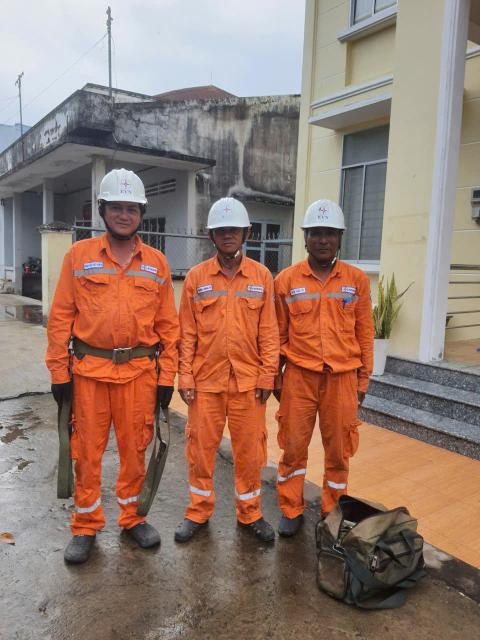gloves: (147, 377, 176, 412), (50, 369, 72, 415)
harness: (62, 316, 182, 370)
helmet: (78, 155, 159, 212), (290, 188, 357, 233), (198, 187, 252, 237)
shoes: (58, 511, 108, 575), (112, 507, 166, 551), (242, 501, 283, 544), (267, 499, 310, 539), (168, 501, 207, 539)
